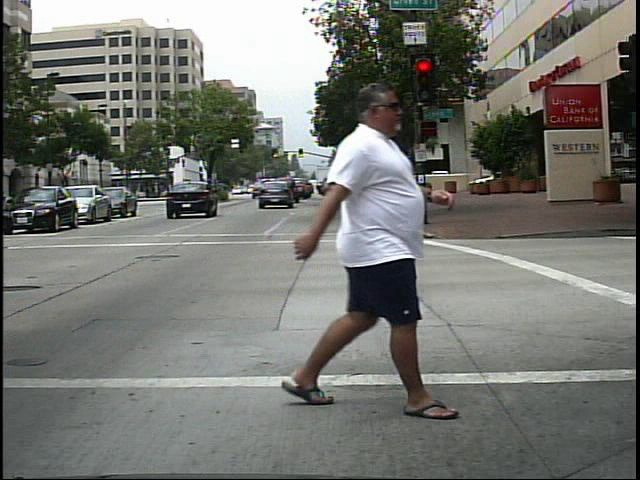person: (277, 75, 457, 421)
